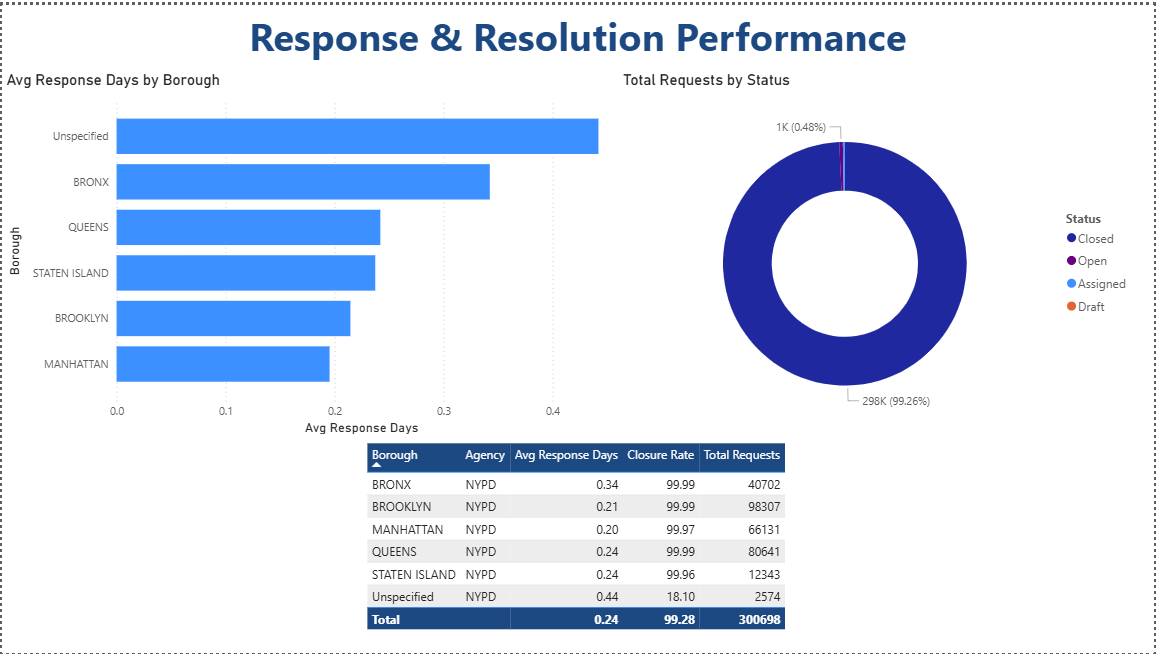

This screenshot's page, from the dashboard's own definition file:
{"tool":"powerbi","page":{"name":"Response and Resolution","canvas":[1280,720],"ordinal":2},"visuals":[{"type":"clusteredBarChart","fields":{"Category":["NYC311data.Borough"],"Y":["NYC311data.Avg Response Days"]},"box":[0,73.3,685,408.3],"z":0},{"type":"donutChart","fields":{"Category":["NYC311data.Status"],"Y":["NYC311data.Total Requests"]},"box":[685,73.3,578.3,408.3],"z":1},{"type":"tableEx","fields":{"Values":["NYC311data.Borough","NYC311data.Agency","NYC311data.Avg Response Days","NYC311data.Closure Rate","NYC311data.Total Requests"]},"box":[400,481.7,478.3,235],"z":2},{"type":"textbox","box":[0,0,1280,73.3],"z":3}]}

Visuals, with their boxes in screenshot pixels (x1, y1, x2, y2), scaled from the page's 1280x720 canvas onto the 1156x654 screenshot:
clusteredBarChart - NYC311data.Borough x NYC311data.Avg Response Days: BBox(0, 67, 619, 437)
donutChart - NYC311data.Status x NYC311data.Total Requests: BBox(619, 67, 1141, 437)
tableEx - NYC311data.Borough x NYC311data.Agency: BBox(361, 438, 793, 651)
textbox: BBox(0, 0, 1155, 67)
